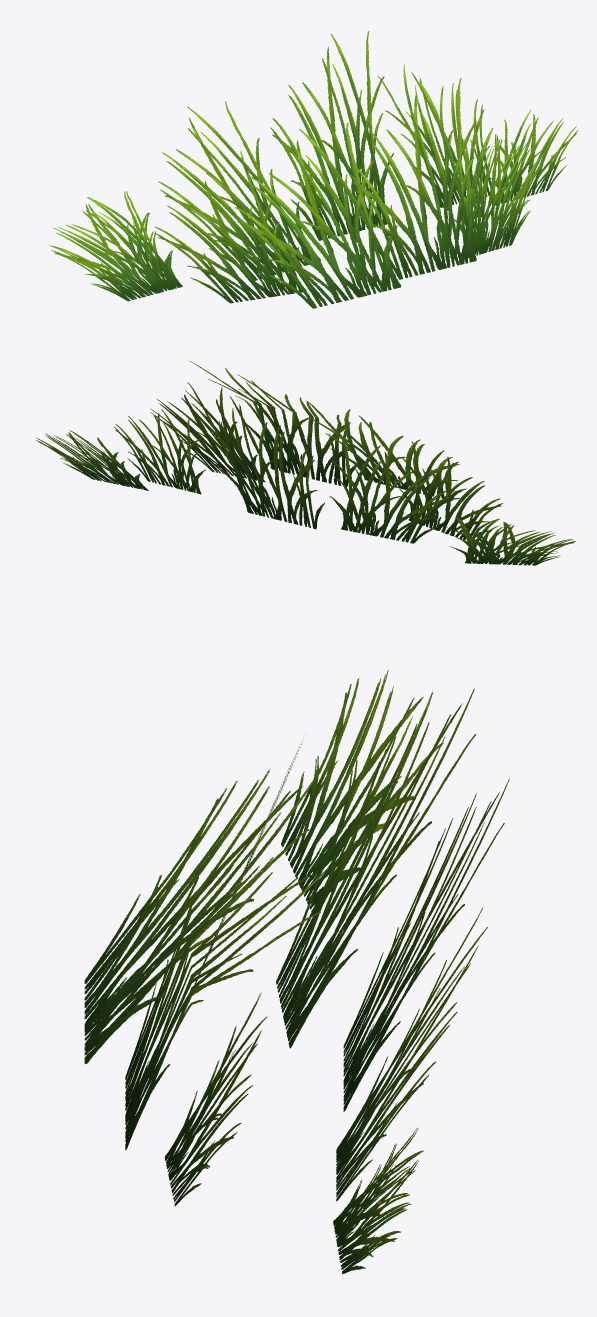
The model's file is 2_Plant_Cao_01.FBX.
The picture shows the model from 3 angles, top to bottom: view 1: azimuth 30°, elevation 25°; view 2: azimuth 150°, elevation 25°; view 3: azimuth 270°, elevation 25°; orthographic projection. The views are drawn at different scales.
Parts seen in each view (by area): view 1: 2_Plant_Cao_01; view 2: 2_Plant_Cao_01; view 3: 2_Plant_Cao_01.
Boxes of the visible parts, left/top/right/bottom form: 2_Plant_Cao_01: left=49, top=31, right=577, bottom=308; 2_Plant_Cao_01: left=36, top=361, right=575, bottom=565; 2_Plant_Cao_01: left=84, top=669, right=509, bottom=1273.
Bounding box in the file's own units: 379 × 113 × 127.
